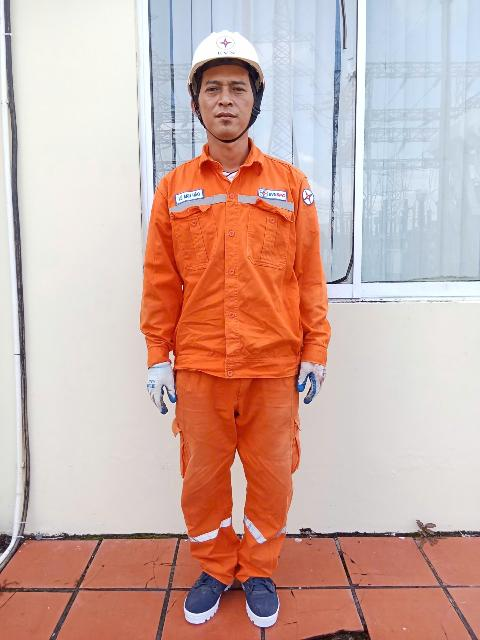gloves: (137, 358, 189, 421), (283, 352, 337, 410)
helmet: (183, 23, 294, 108)
shoes: (173, 538, 236, 639), (223, 562, 296, 640)
